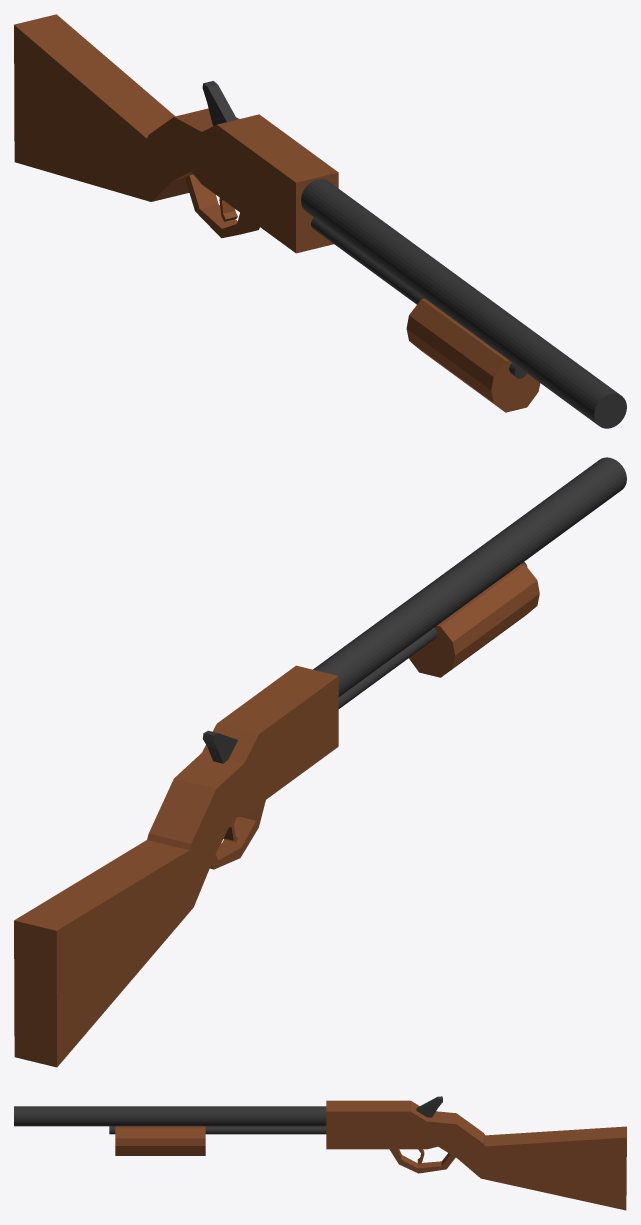
Rendered from shotgun.glb.
3 views of the same model, one above another, from view 1: azimuth 30°, elevation 25°; view 2: azimuth 150°, elevation 25°; view 3: azimuth 270°, elevation 25° (orthographic). The views are drawn at different scales.
Parts seen in each view (by area): view 1: Handle, barrel, slide, slide_bar, hammer; view 2: Handle, barrel, slide, slide_bar; view 3: Handle, barrel, slide, slide_bar, hammer.
Boxes of the visible parts, x1,y1,x2,y2 form: Handle: (14,14,338,253); barrel: (301,179,626,428); slide: (406,298,540,412); slide_bar: (311,217,526,378); hammer: (202,81,236,125); Handle: (14,665,338,1067); barrel: (313,457,626,696); slide: (409,563,539,677); slide_bar: (338,562,527,708); Handle: (326,1100,626,1210); barrel: (14,1106,326,1126); slide: (115,1126,205,1155); slide_bar: (109,1126,326,1134); hammer: (416,1096,442,1117).
Bounding box in the file's own units: 3.07 × 11.76 × 60.89.
